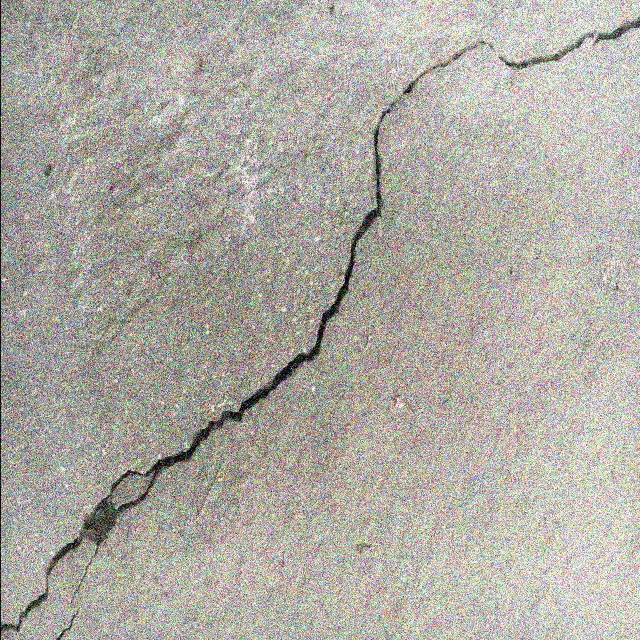SurfaceCrack: (0, 1, 630, 639)
